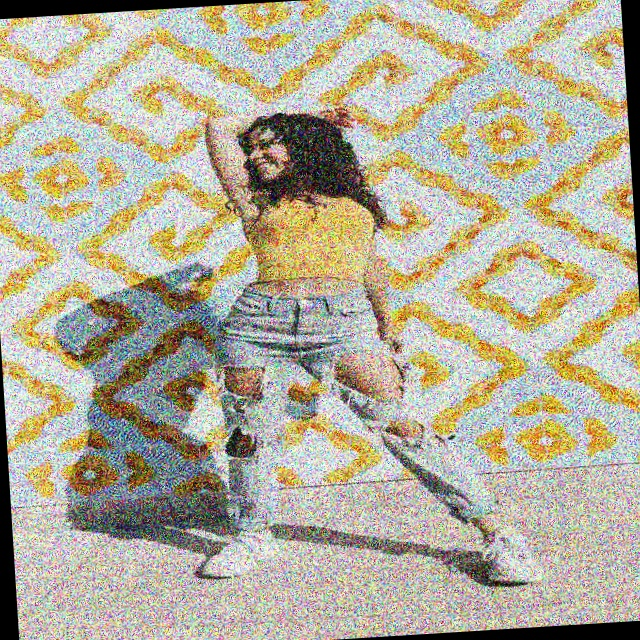Crop_Top: (238, 186, 383, 305)
ripped_pants: (207, 275, 515, 536)
